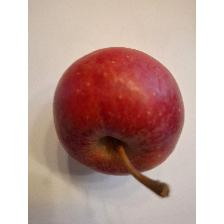Apfel: (50, 42, 188, 198)
